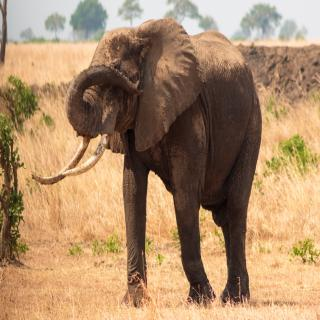Elephant: (29, 17, 266, 308)
